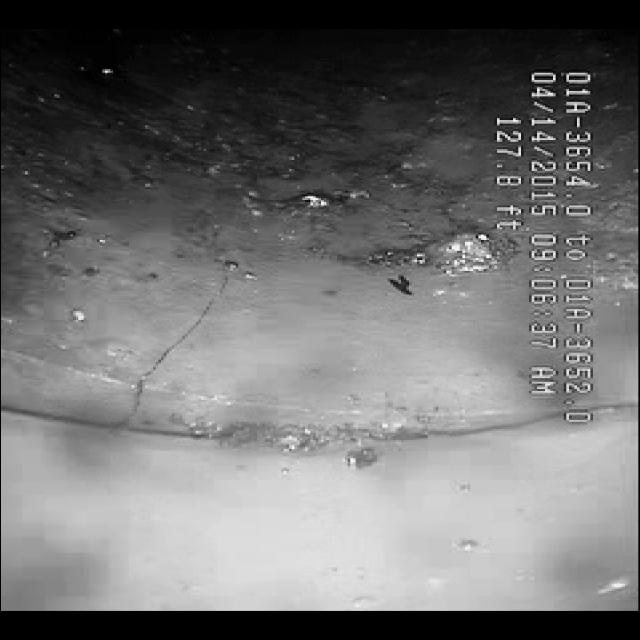Crack: (91, 238, 277, 416)
